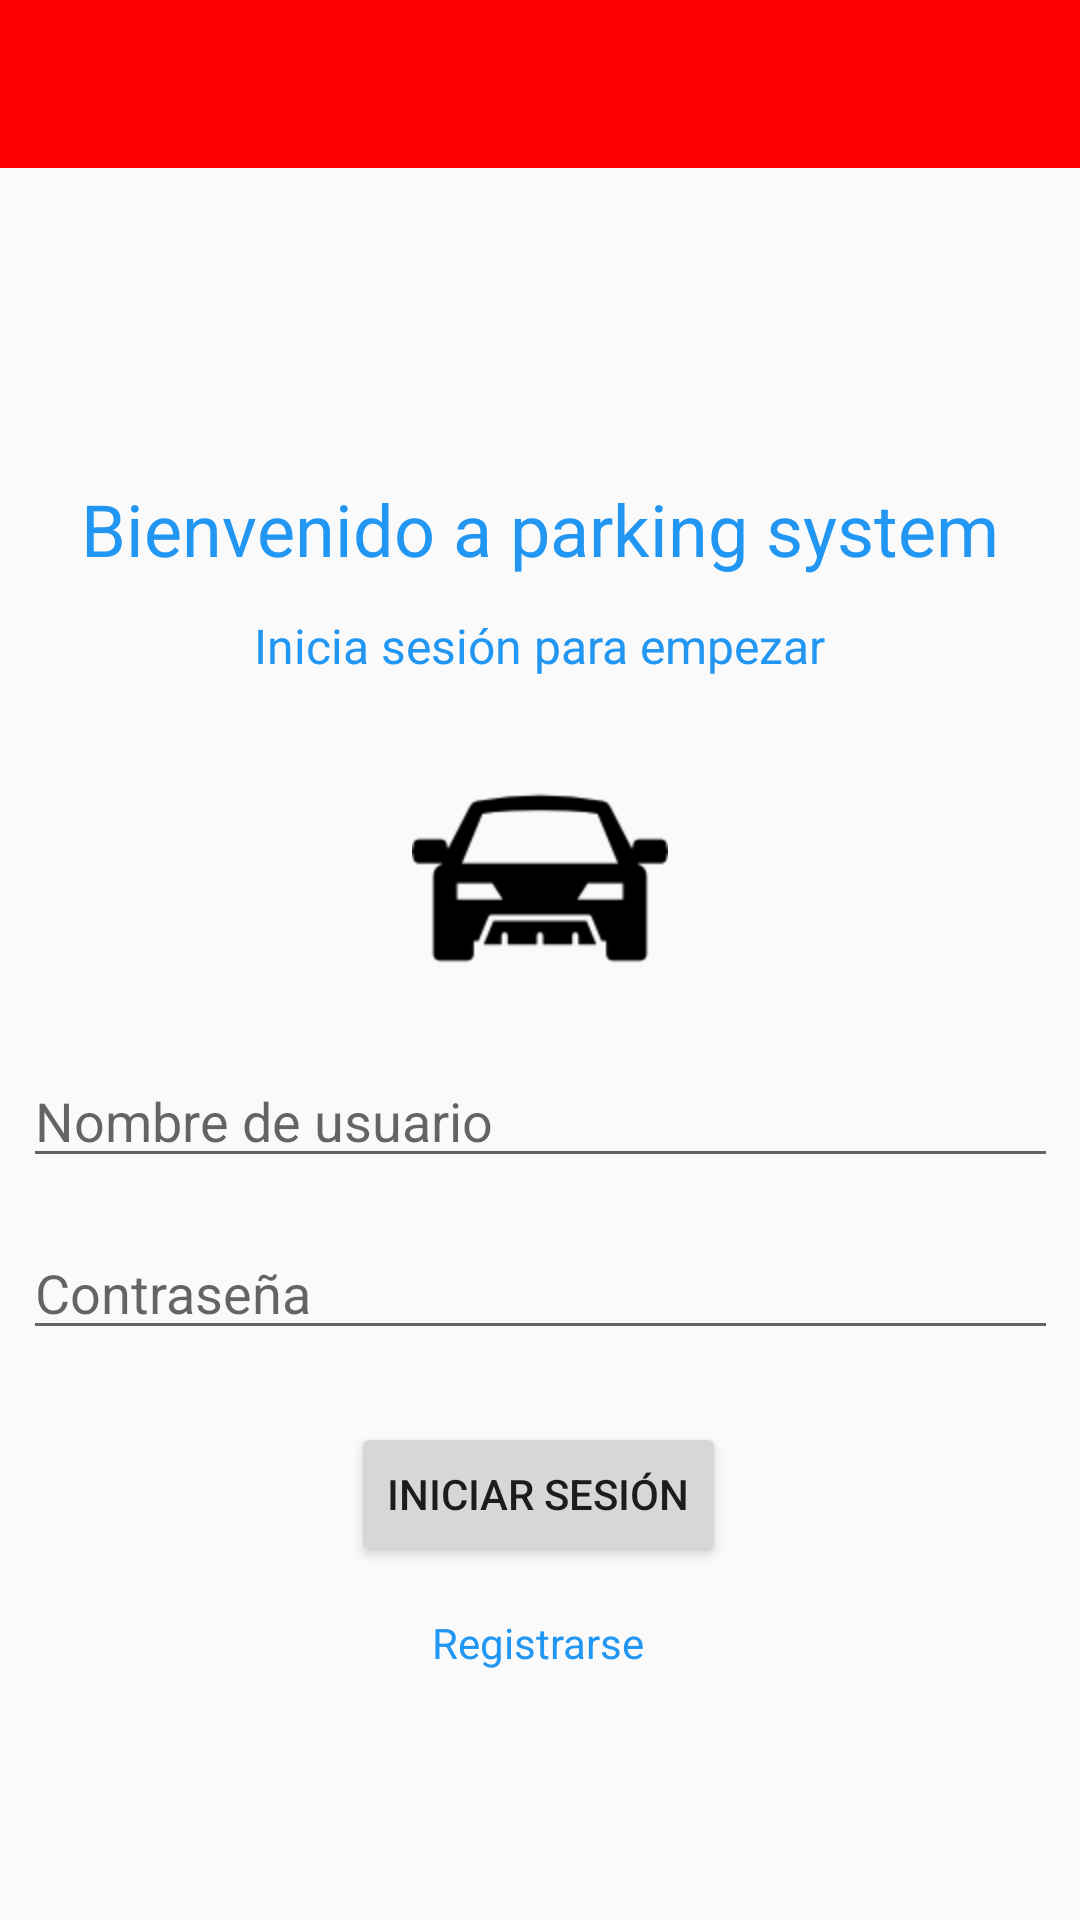

Screen size 1080w x 1920h. Icon name, then its box in pixels as bbox=[x1, y1, x2, y2]:
coche: bbox=[412, 794, 668, 962]
